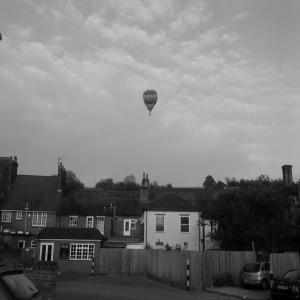Vehicle-registration-plate: (279, 286, 290, 292)
